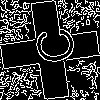C: (25, 25, 76, 67)
